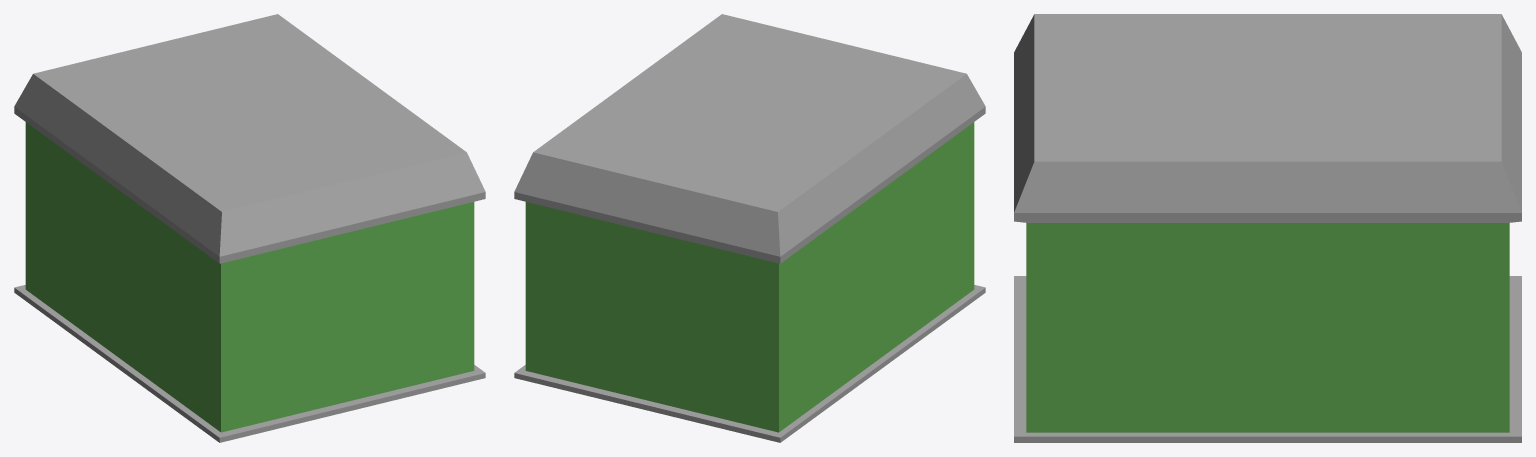
The model's file is Fish_Tank_PROP.fbx.
3 views of the same model, side by side, from view 1: azimuth 30°, elevation 25°; view 2: azimuth 150°, elevation 25°; view 3: azimuth 270°, elevation 25° (orthographic). The views are drawn at different scales.
Visible parts, largest first — view 1: polySurface8; view 2: polySurface8; view 3: polySurface8.
Boxes of the visible parts, x1,y1,x2,y2 form: polySurface8: [14, 14, 485, 442]; polySurface8: [514, 14, 985, 442]; polySurface8: [1014, 14, 1521, 442].
Bounding box in the file's own units: 0.8565 × 0.6838 × 1.14.
